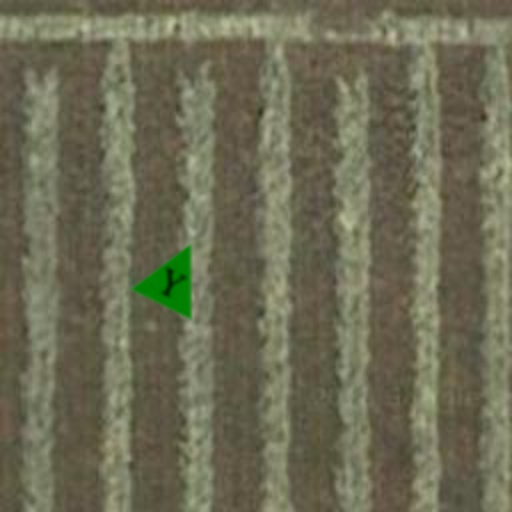triangle: (130, 228, 222, 320)
